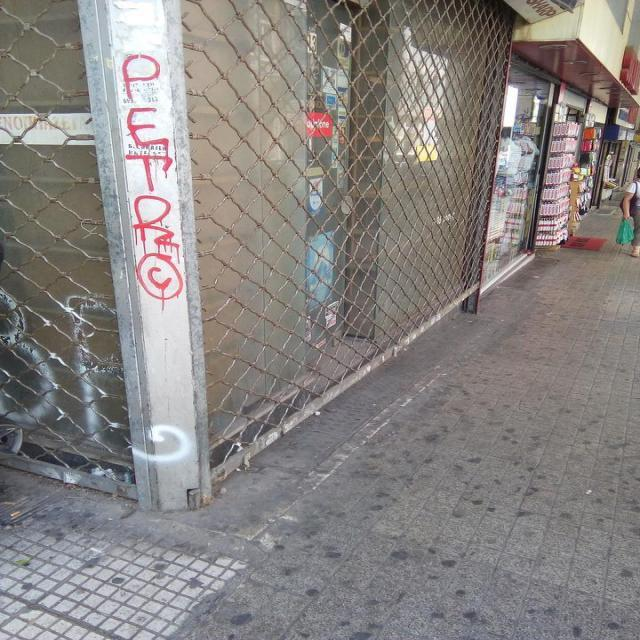nonspitting: (0, 287, 193, 462), (121, 52, 187, 314)
